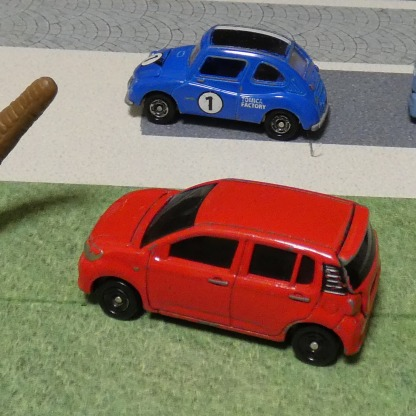car: (82, 180, 374, 363), (128, 23, 331, 137)
